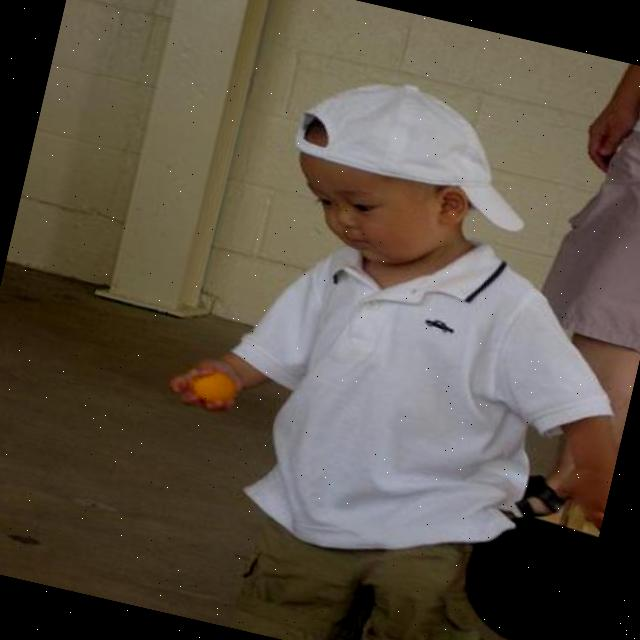ping-pong-ball: (190, 365, 240, 404)
